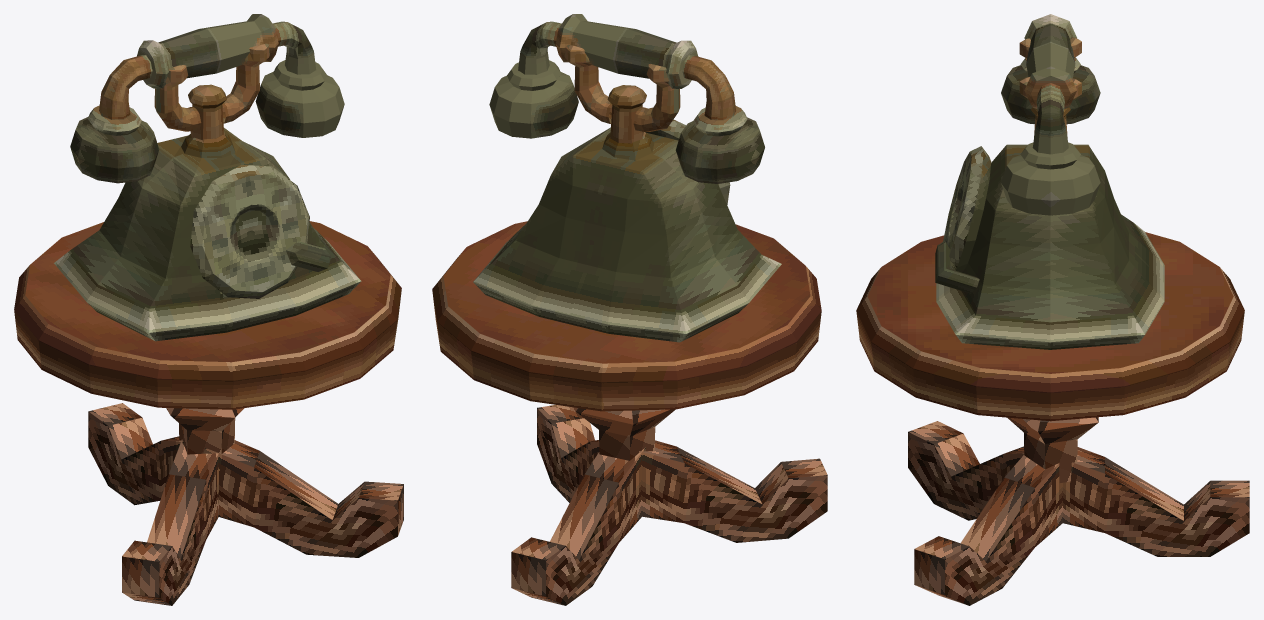
The model's file is Telephone (LM).obj.
3 views of the same model, side by side, from view 1: azimuth 30°, elevation 25°; view 2: azimuth 150°, elevation 25°; view 3: azimuth 270°, elevation 25° (orthographic).
Parts seen in each view (by area): view 1: shape3_material2_, shape3_material2_.001, shape3_material2_.002, shape3_material2_mate; view 2: shape3_material2_, shape3_material2_.001, shape3_material2_.002, shape3_material2_mate; view 3: shape3_material2_.001, shape3_material2_.002, shape3_material2_, shape3_material2_mate.
Part boxes in pixels (left/top/right/bottom): shape3_material2_: left=54, top=43, right=361, bottom=341; shape3_material2_.001: left=14, top=221, right=401, bottom=409; shape3_material2_.002: left=88, top=403, right=403, bottom=605; shape3_material2_mate: left=70, top=14, right=344, bottom=183; shape3_material2_: left=473, top=45, right=781, bottom=342; shape3_material2_.001: left=432, top=221, right=821, bottom=411; shape3_material2_.002: left=511, top=404, right=827, bottom=605; shape3_material2_mate: left=489, top=14, right=764, bottom=183; shape3_material2_.001: left=856, top=232, right=1244, bottom=421; shape3_material2_.002: left=908, top=417, right=1249, bottom=605; shape3_material2_: left=935, top=37, right=1164, bottom=349; shape3_material2_mate: left=1001, top=14, right=1100, bottom=215.
Bounding box in the file's own units: 1.05 × 1.52 × 1.06.
